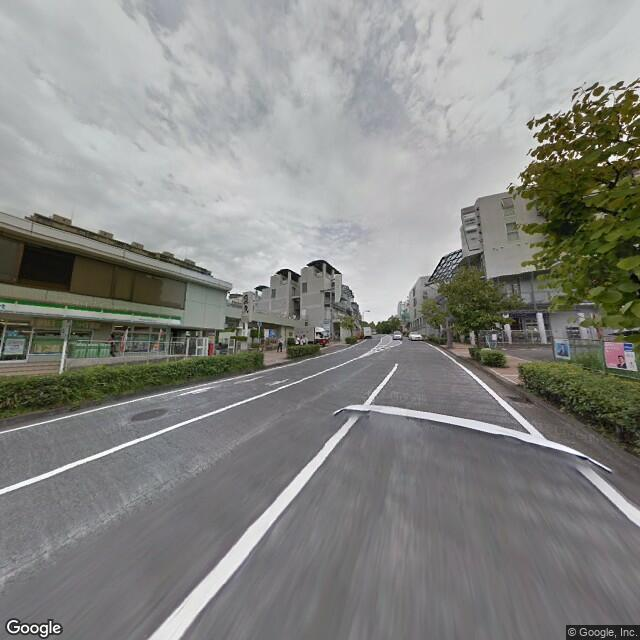family_mart: (2, 296, 180, 324)
